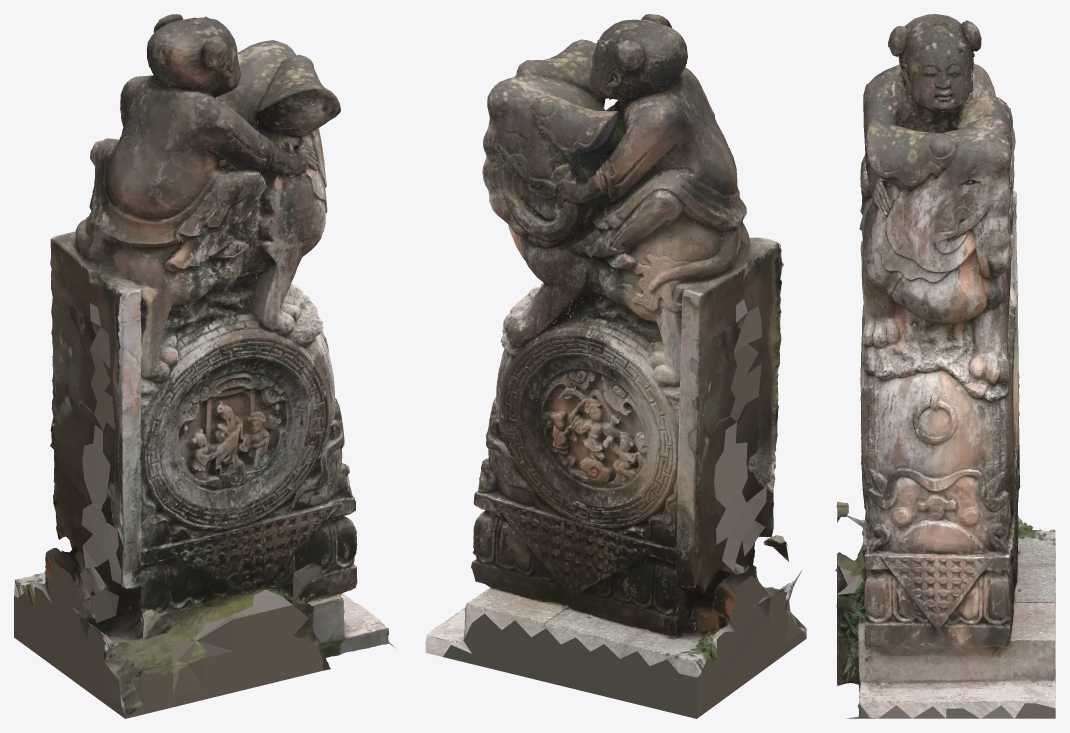
Rendered from drum_stone.glb.
3 renders of one model, left to right at view 1: azimuth 30°, elevation 25°; view 2: azimuth 150°, elevation 25°; view 3: azimuth 270°, elevation 25°, orthographic.
Parts seen in each view (by area): view 1: Object_2; view 2: Object_2; view 3: Object_2.
Part boxes in pixels (box(x1,y1,x2,y2)): Object_2: box(14, 14, 396, 718); Object_2: box(425, 14, 806, 718); Object_2: box(835, 14, 1055, 718).
Bounding box in the file's own units: 18.46 × 40.15 × 12.95.
Materials: 1 (1 with a texture image).
